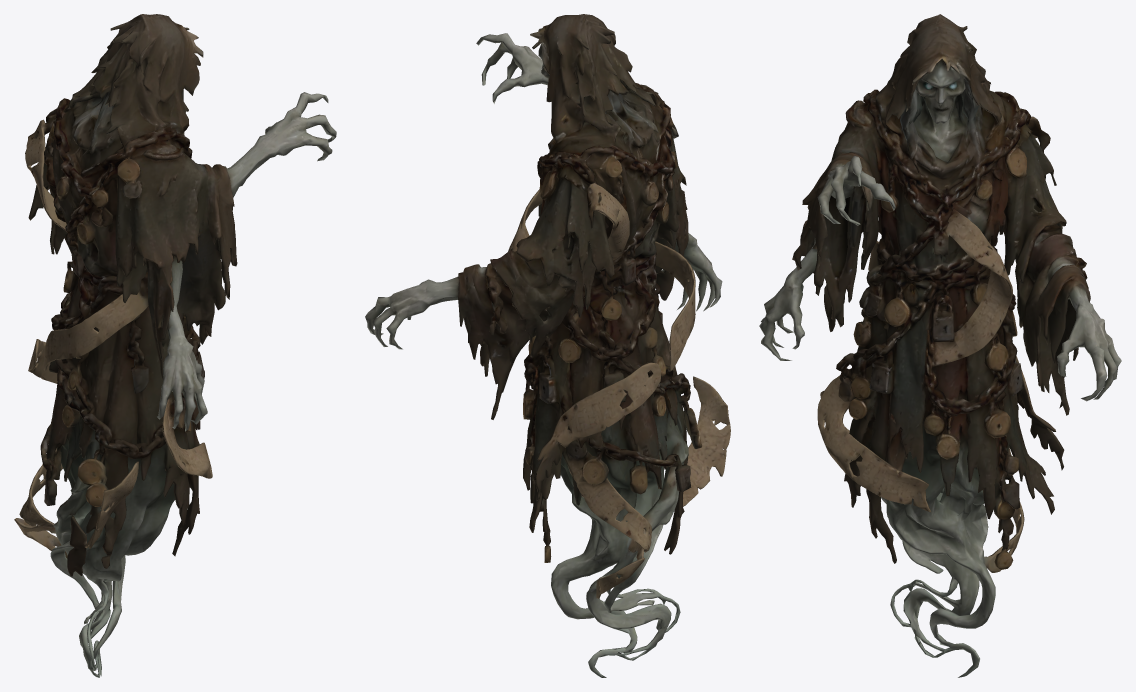
The model's file is DebtWraith-tripo.glb.
3 views of the same model, side by side, from view 1: azimuth 30°, elevation 25°; view 2: azimuth 150°, elevation 25°; view 3: azimuth 270°, elevation 25° (orthographic). The views are drawn at different scales.
Visible parts, largest first — view 1: tripo_node_5b0f9869-9bcb-419c-92f1-06dab260adb2; view 2: tripo_node_5b0f9869-9bcb-419c-92f1-06dab260adb2; view 3: tripo_node_5b0f9869-9bcb-419c-92f1-06dab260adb2.
Part boxes in pixels (x1,y1,x2,y2): tripo_node_5b0f9869-9bcb-419c-92f1-06dab260adb2: [14, 14, 336, 677]; tripo_node_5b0f9869-9bcb-419c-92f1-06dab260adb2: [365, 14, 730, 677]; tripo_node_5b0f9869-9bcb-419c-92f1-06dab260adb2: [759, 14, 1121, 677].
Bounding box in the file's own units: 0.3955 × 1 × 0.4836.
1 material, 1 textured.
